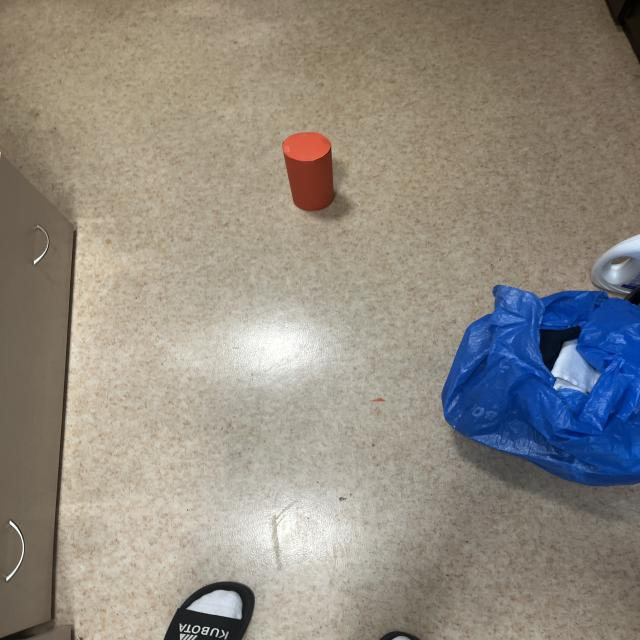przeszkoda: (282, 132, 334, 211)
